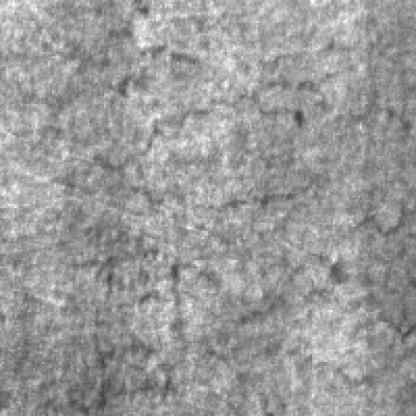crazing: (54, 31, 345, 133), (54, 94, 308, 208)
